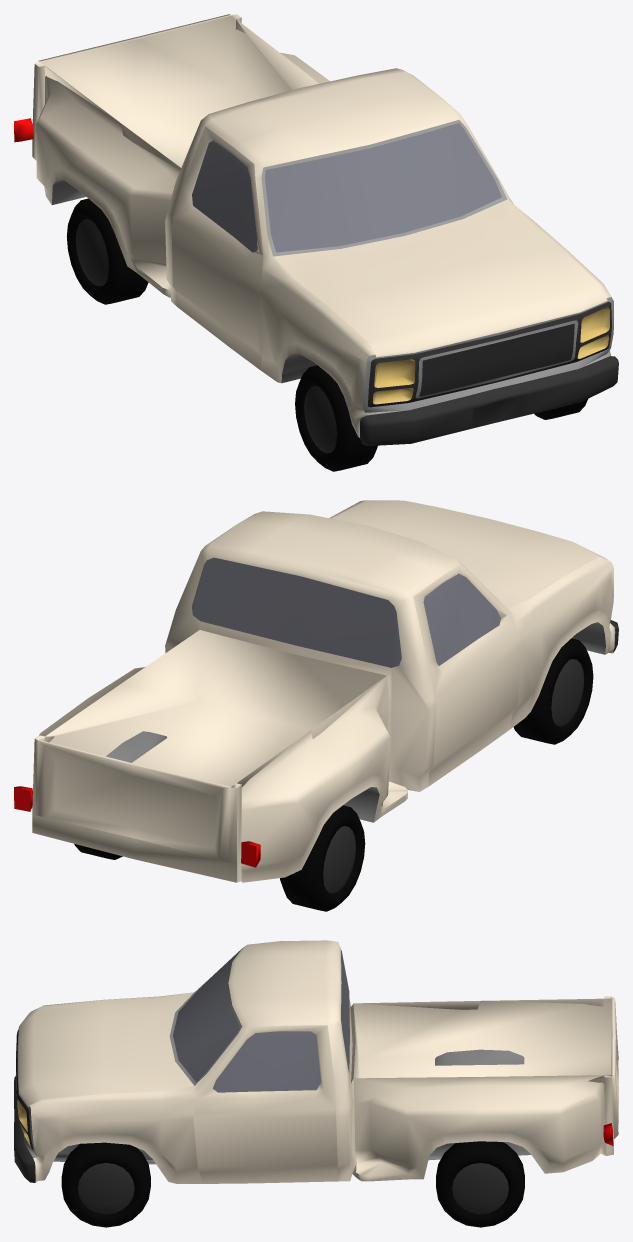
The model's file is pickup.obj.
The picture shows the model from 3 angles, top to bottom: view 1: azimuth 30°, elevation 25°; view 2: azimuth 150°, elevation 25°; view 3: azimuth 270°, elevation 25°; orthographic projection. The views are drawn at different scales.
Parts seen in each view (by area): view 1: Object__11, Object__37, Object__5, Object__0, Object__35, Object__23, Object__13, Object__27, Object__21, Object__31, Object__39, Object__15 (+4 smaller); view 2: Object__37, Object__0, Object__9, Object__5, Object__35, Object__11, Object__23, Object__39, Object__31, Object__25, Object__29, Object__17 (+1 smaller); view 3: Object__37, Object__35, Object__0, Object__11, Object__23, Object__5, Object__39, Object__33, Object__29, Object__19, Object__25, Object__13 (+2 smaller).
Boxes of the visible parts, bbox=[...] form: Object__11: bbox=[273, 199, 607, 357]; Object__37: bbox=[165, 68, 611, 437]; Object__5: bbox=[192, 123, 501, 252]; Object__0: bbox=[35, 14, 319, 169]; Object__35: bbox=[32, 14, 329, 297]; Object__23: bbox=[171, 126, 263, 369]; Object__13: bbox=[360, 356, 618, 445]; Object__27: bbox=[368, 302, 611, 407]; Object__21: bbox=[363, 297, 613, 415]; Object__31: bbox=[295, 365, 377, 471]; Object__39: bbox=[66, 198, 148, 304]; Object__15: bbox=[373, 307, 609, 404]; Object__37: bbox=[165, 500, 615, 791]; Object__0: bbox=[35, 630, 386, 787]; Object__9: bbox=[32, 739, 237, 882]; Object__5: bbox=[192, 557, 500, 667]; Object__35: bbox=[35, 667, 407, 882]; Object__11: bbox=[332, 500, 605, 608]; Object__23: bbox=[413, 564, 522, 786]; Object__39: bbox=[74, 805, 365, 911]; Object__31: bbox=[513, 638, 593, 744]; Object__25: bbox=[106, 622, 605, 822]; Object__29: bbox=[323, 826, 355, 893]; Object__17: bbox=[551, 659, 584, 726]; Object__37: bbox=[29, 940, 357, 1183]; Object__35: bbox=[353, 998, 614, 1181]; Object__0: bbox=[353, 996, 614, 1083]; Object__11: bbox=[17, 992, 193, 1107]; Object__23: bbox=[193, 1025, 338, 1183]; Object__5: bbox=[173, 950, 349, 1092]; Object__39: bbox=[436, 1141, 524, 1227]; Object__33: bbox=[61, 1142, 150, 1227]; Object__29: bbox=[452, 1163, 508, 1214]; Object__19: bbox=[78, 1163, 134, 1214]; Object__25: bbox=[53, 1049, 530, 1164]; Object__13: bbox=[14, 1076, 35, 1182].
Size of the model in its own units: 2.02 by 1.78 by 4.76.
